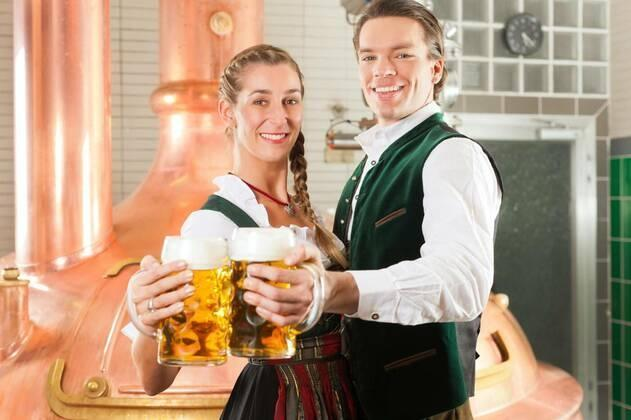glass-mug: (126, 229, 240, 367), (224, 221, 328, 362)
